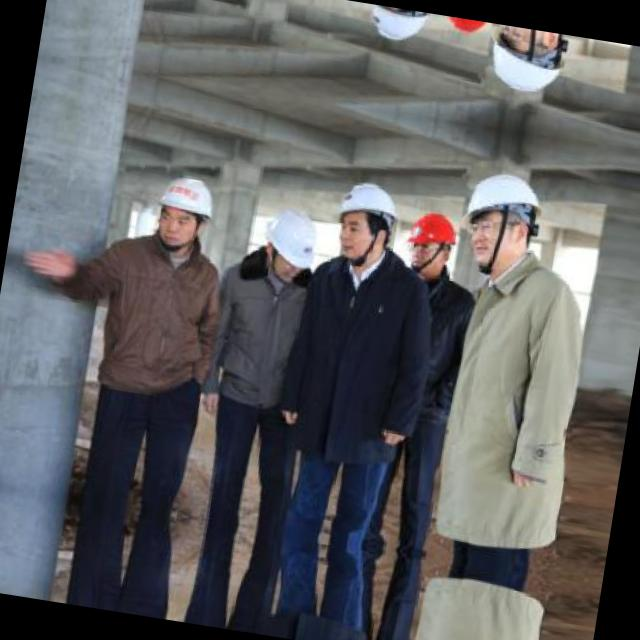helmet: (457, 163, 547, 280), (486, 24, 571, 101), (330, 173, 401, 264), (146, 169, 222, 254), (256, 201, 324, 286), (400, 204, 464, 278), (364, 4, 430, 50), (438, 15, 494, 40)
